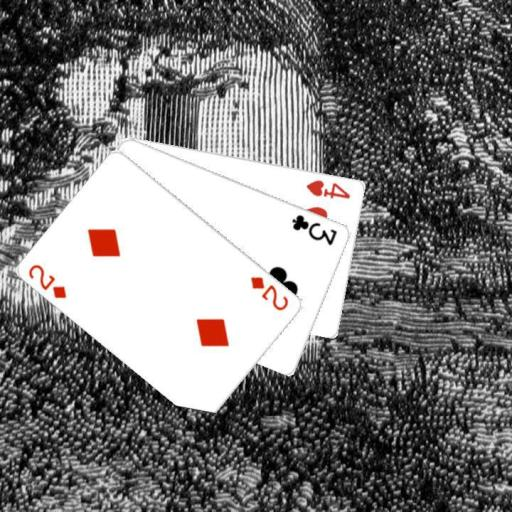2D: (247, 273, 291, 312), (26, 261, 68, 300)
3C: (289, 211, 339, 247)
4H: (304, 176, 352, 200)
